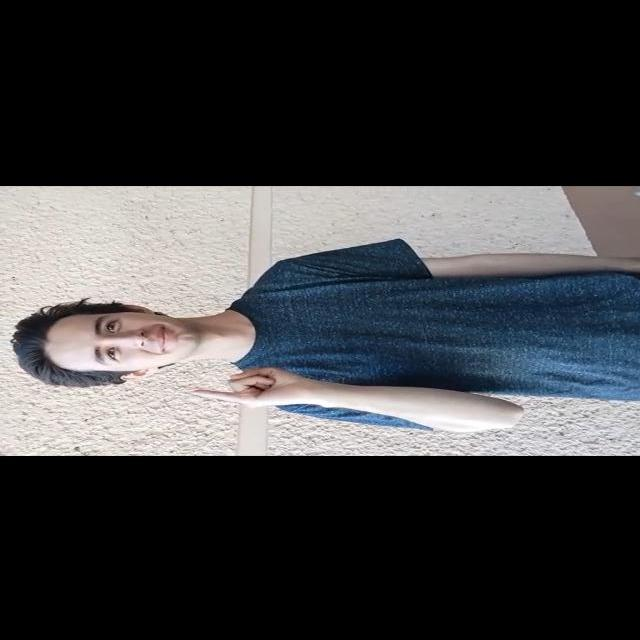I: (187, 359, 331, 418)
